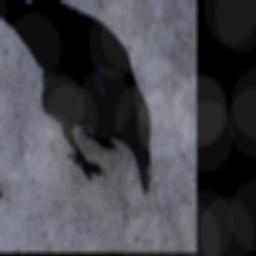Crow: (0, 0, 150, 193)
